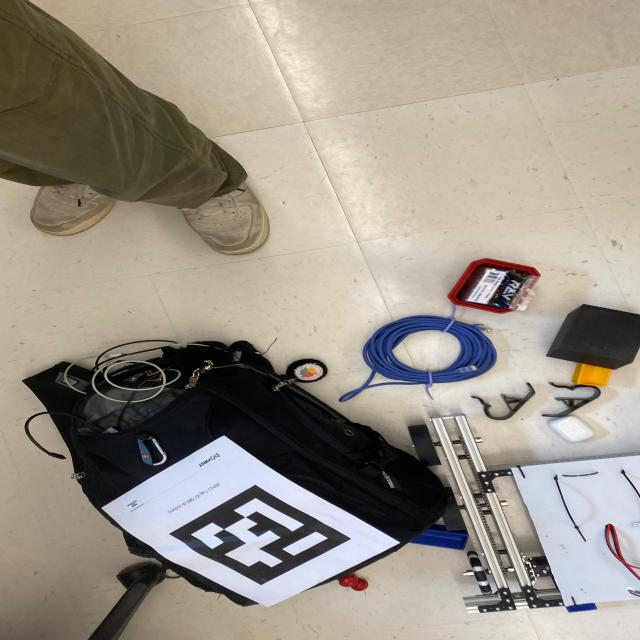blue-specimen: (411, 529, 468, 550), (566, 603, 597, 613)
yellow-specimen: (571, 363, 612, 387)
